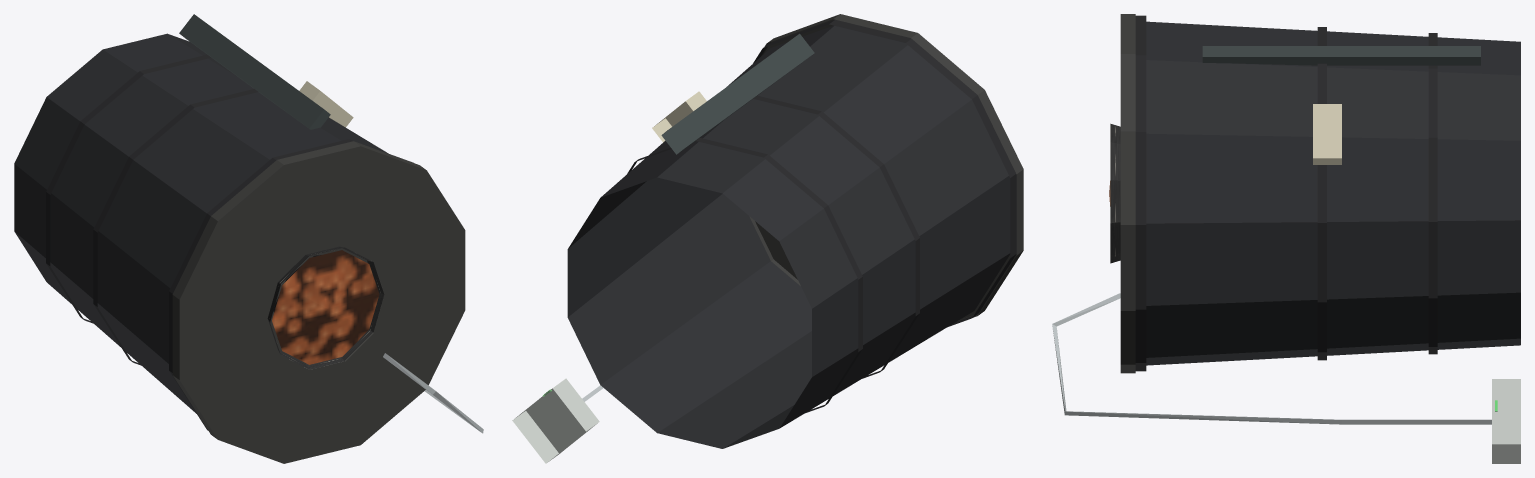
The model's file is pot_xldwc_full.obj.
3 views of the same model, side by side, from view 1: azimuth 30°, elevation 25°; view 2: azimuth 150°, elevation 25°; view 3: azimuth 270°, elevation 25° (orthographic). The views are drawn at different scales.
Size of the model in its own units: 0.68 by 0.697 by 0.812.
1 material, 1 textured.
